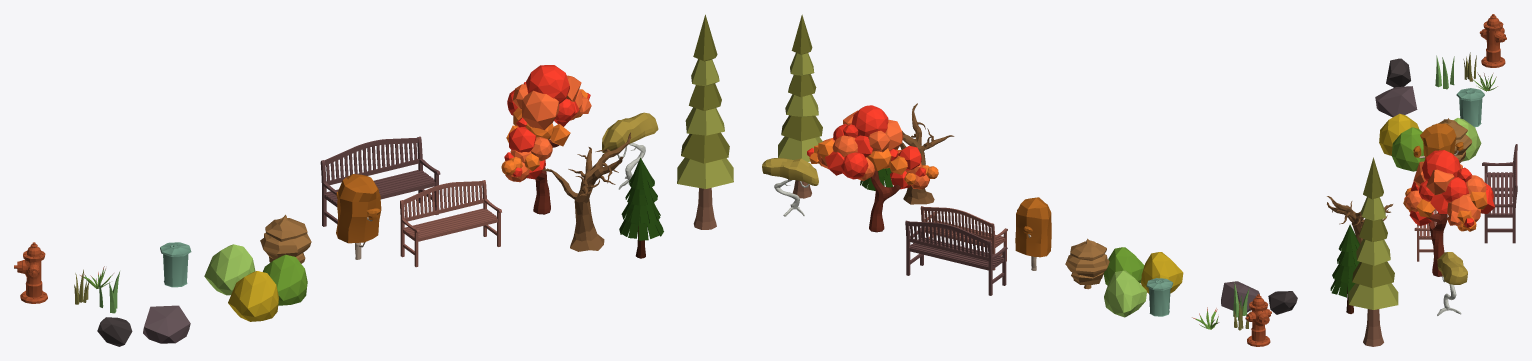
The model's file is Street_uv.fbx.
3 renders of one model, left to right at view 1: azimuth 30°, elevation 25°; view 2: azimuth 150°, elevation 25°; view 3: azimuth 270°, elevation 25°, orthographic. The views are drawn at different scales.
Visible parts, largest first — view 1: polySurface11, polySurface29, polySurface53, Sphere_032, polySurface4, Sphere_010, Tree4__1_, polySurface9, Bush1__11_2, Tree5__2_, Bush1__11_1, Bush1__11_ (+8 smaller); view 2: polySurface11, polySurface29, Sphere_032, polySurface4, Sphere_010, polySurface53, Tree5__2_, Bush1__11_1, Sphere_007, Tree4__1_, polySurface7, Bush1__11_2 (+6 smaller); view 3: polySurface11, Sphere_032, Sphere_010, polySurface29, polySurface9, polySurface4, Bush1__11_, Rock1__5_, gidrant__1_, musorka__1_, Bush1__11_2, polySurface7 (+12 smaller).
Boxes of the visible parts, bbox=[...] form: polySurface11: bbox=[677, 14, 733, 188]; polySurface29: bbox=[320, 136, 440, 226]; polySurface53: bbox=[400, 180, 501, 267]; Sphere_032: bbox=[504, 65, 590, 179]; polySurface4: bbox=[336, 174, 381, 243]; Sphere_010: bbox=[505, 75, 591, 182]; Tree4__1_: bbox=[542, 132, 631, 251]; polySurface9: bbox=[619, 157, 663, 240]; Bush1__11_2: bbox=[228, 271, 278, 321]; Tree5__2_: bbox=[260, 214, 311, 263]; Bush1__11_1: bbox=[204, 244, 255, 295]; Bush1__11_: bbox=[263, 254, 307, 305]; polySurface11: bbox=[778, 14, 822, 161]; polySurface29: bbox=[905, 220, 1007, 295]; Sphere_032: bbox=[807, 105, 925, 189]; polySurface4: bbox=[1015, 197, 1051, 257]; Sphere_010: bbox=[809, 110, 929, 189]; polySurface53: bbox=[920, 206, 1007, 270]; Tree5__2_: bbox=[1065, 238, 1109, 289]; Bush1__11_1: bbox=[1104, 270, 1146, 317]; Sphere_007: bbox=[814, 139, 938, 185]; Tree4__1_: bbox=[900, 103, 954, 204]; polySurface7: bbox=[762, 158, 818, 185]; Bush1__11_2: bbox=[1141, 252, 1183, 293]; polySurface11: bbox=[1348, 157, 1398, 309]; Sphere_032: bbox=[1404, 150, 1494, 227]; Sphere_010: bbox=[1405, 161, 1486, 231]; polySurface29: bbox=[1482, 144, 1517, 243]; polySurface9: bbox=[1330, 224, 1359, 297]; polySurface4: bbox=[1413, 123, 1463, 158]; Bush1__11_: bbox=[1391, 127, 1424, 171]; Rock1__5_: bbox=[1375, 86, 1417, 117]; gidrant__1_: bbox=[1479, 14, 1506, 67]; musorka__1_: bbox=[1456, 88, 1484, 127]; Bush1__11_2: bbox=[1379, 113, 1419, 155]; polySurface7: bbox=[1437, 252, 1467, 284].
Size of the model in its own units: 170 by 53.71 by 49.51.
